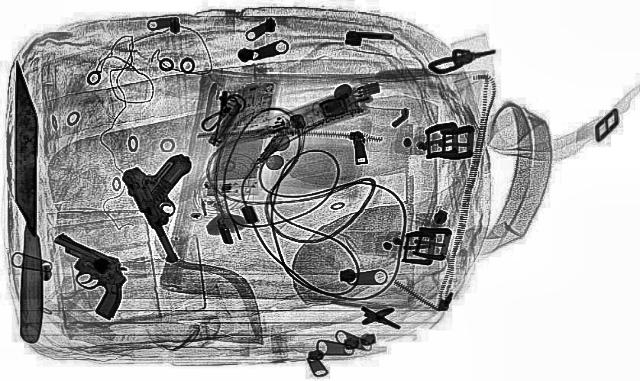Gun: (1, 231, 167, 318), (110, 152, 240, 262)
Knife: (8, 59, 44, 343)
